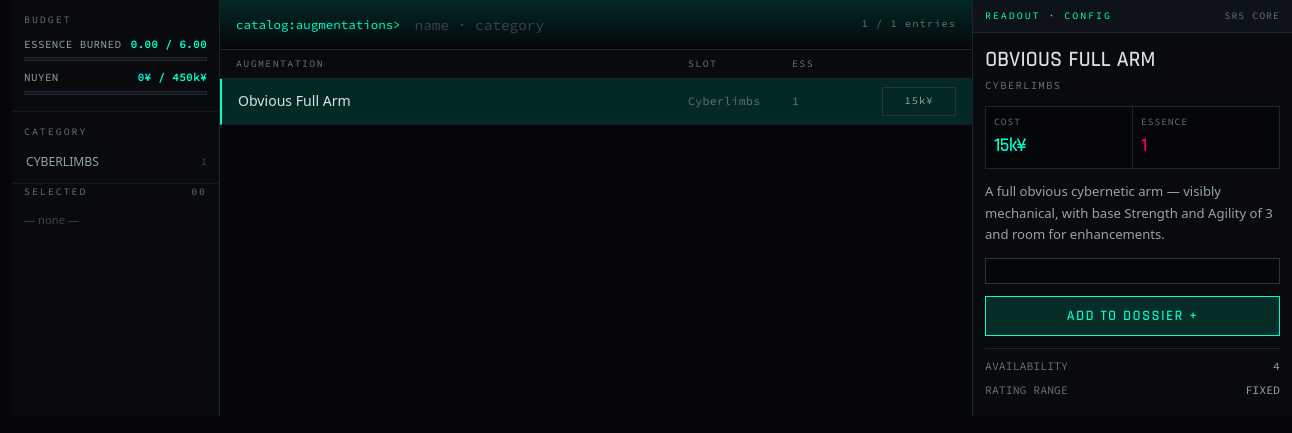
Test: AugmentationsStep attachments › filters augmentations by category and search text
Click the button with aria-label "CYBERLIMBS (1)".
click(116, 161)  # box x1=12 y1=148 x2=219 y2=174
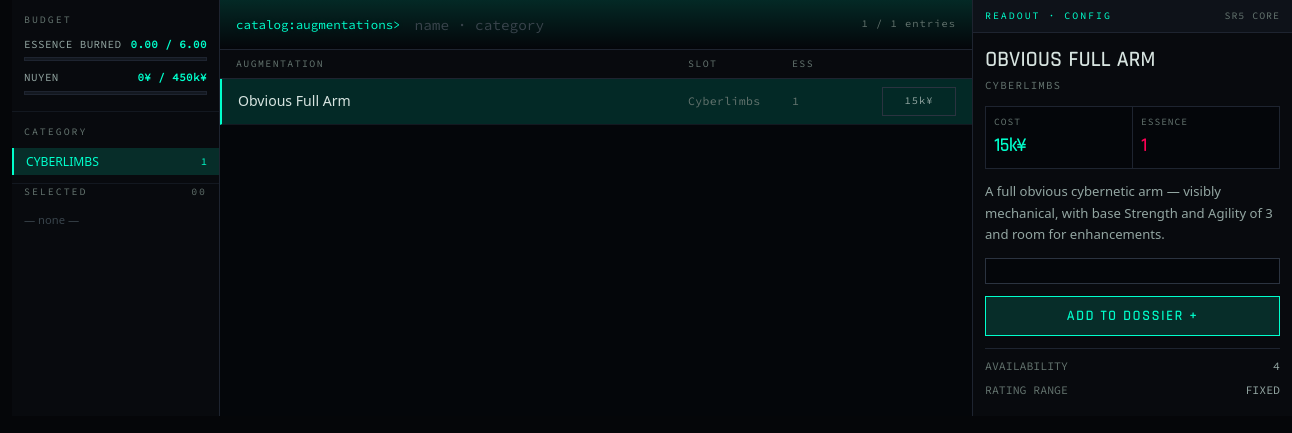
Check: the checkbox named "obvious full arm" is shown, box x1=882 y1=87 x2=956 y2=116
Type "reflex" into the search field named "Search augmentations".
click(631, 24); type("reflex")  # box x1=413 y1=14 x2=849 y2=34
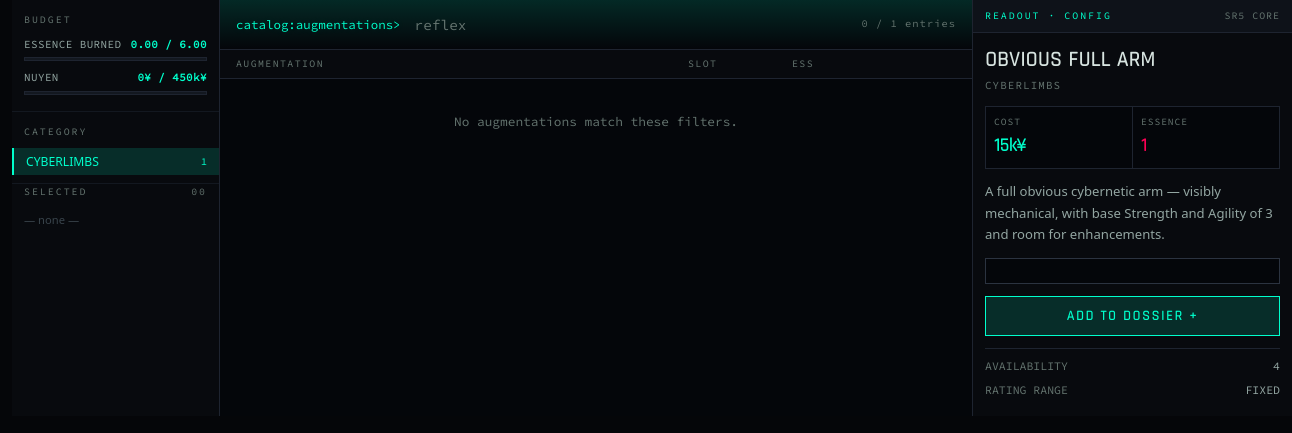
Check: the text "No augmentations match these filters." is shown, box x1=454 y1=113 x2=738 y2=129
